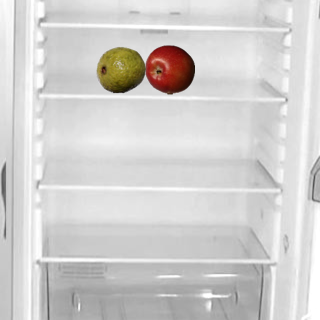Apple Braeburn: (144, 44, 194, 94)
Guava: (95, 44, 145, 94)
